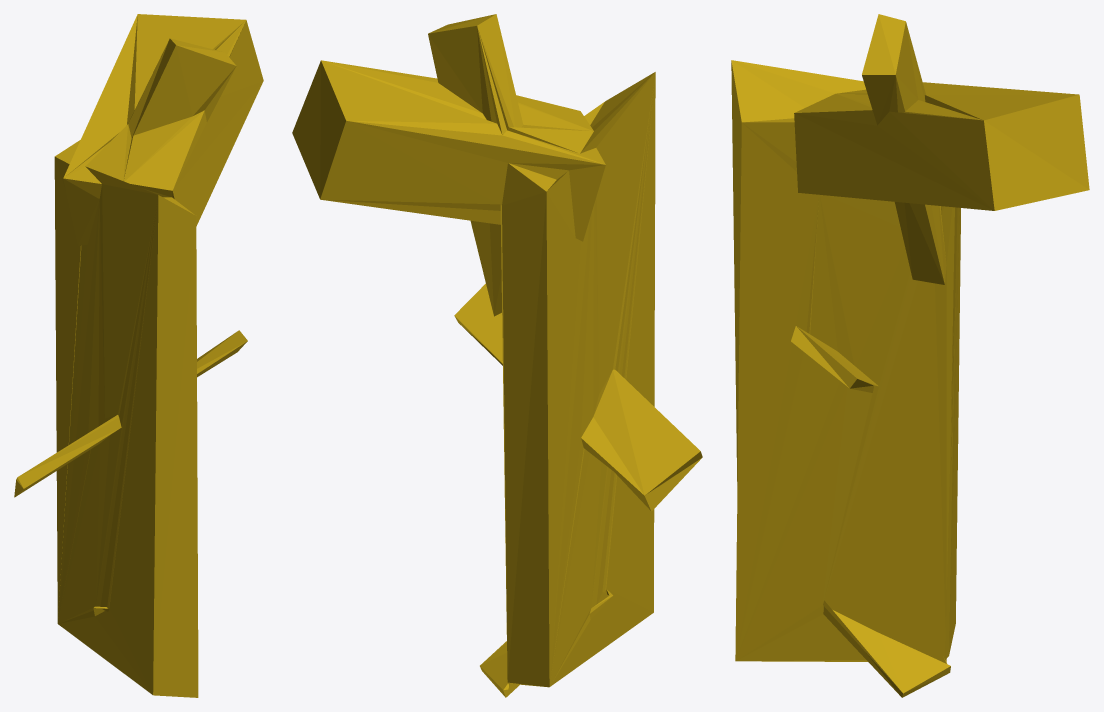
The picture shows the model from 3 angles, left to right: view 1: azimuth 30°, elevation 25°; view 2: azimuth 150°, elevation 25°; view 3: azimuth 270°, elevation 25°; orthographic projection. The views are drawn at different scales.
Visible parts, largest first — view 1: 274_Cube.1121; view 2: 274_Cube.1121; view 3: 274_Cube.1121.
Boxes of the visible parts, x1=… form: 274_Cube.1121: x1=14, y1=14, x2=263, y2=697; 274_Cube.1121: x1=292, y1=14, x2=702, y2=697; 274_Cube.1121: x1=731, y1=14, x2=1089, y2=697.
Bounding box in the file's own units: 8.17 × 15.09 × 7.18.
